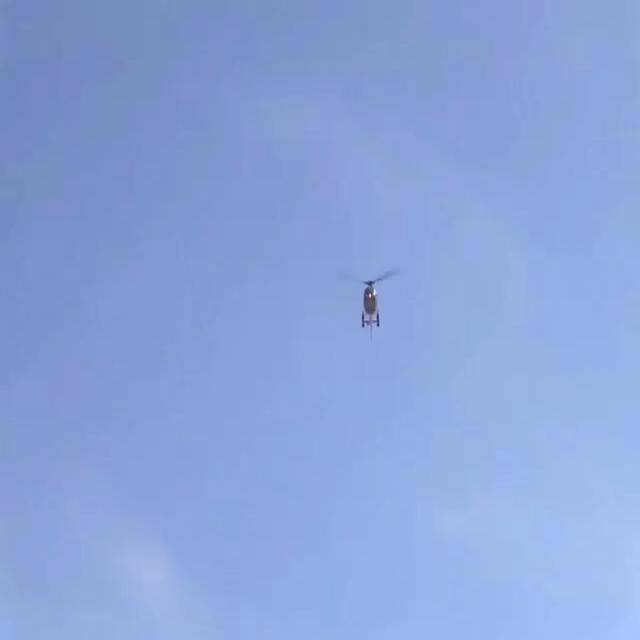Helicopter: (330, 253, 418, 354)
